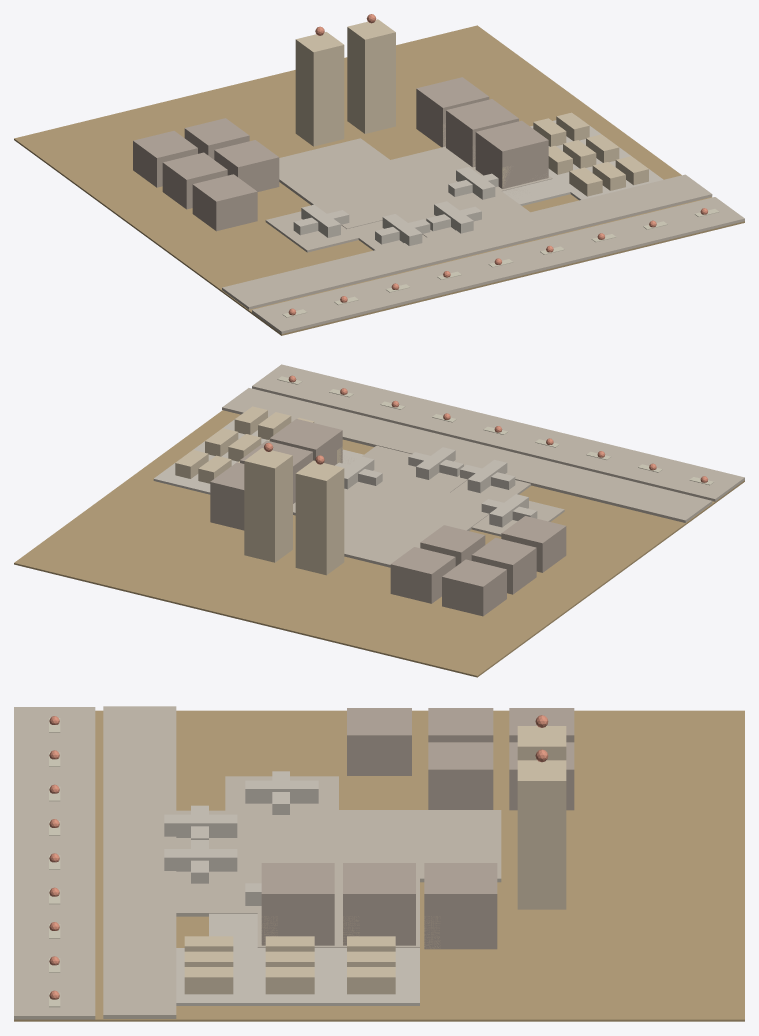
Rendered from stage_24.glb.
3 renders of one model, top to bottom at view 1: azimuth 30°, elevation 25°; view 2: azimuth 150°, elevation 25°; view 3: azimuth 270°, elevation 25°, orthographic. The views are drawn at different scales.
Visible parts, largest first — view 1: geometry_0; view 2: geometry_0; view 3: geometry_0.
Part boxes in pixels (bbox=[...]): geometry_0: bbox=[14, 14, 744, 335]; geometry_0: bbox=[14, 364, 744, 677]; geometry_0: bbox=[14, 706, 744, 1021].
Bounding box in the file's own units: 9 × 2.06 × 9.
